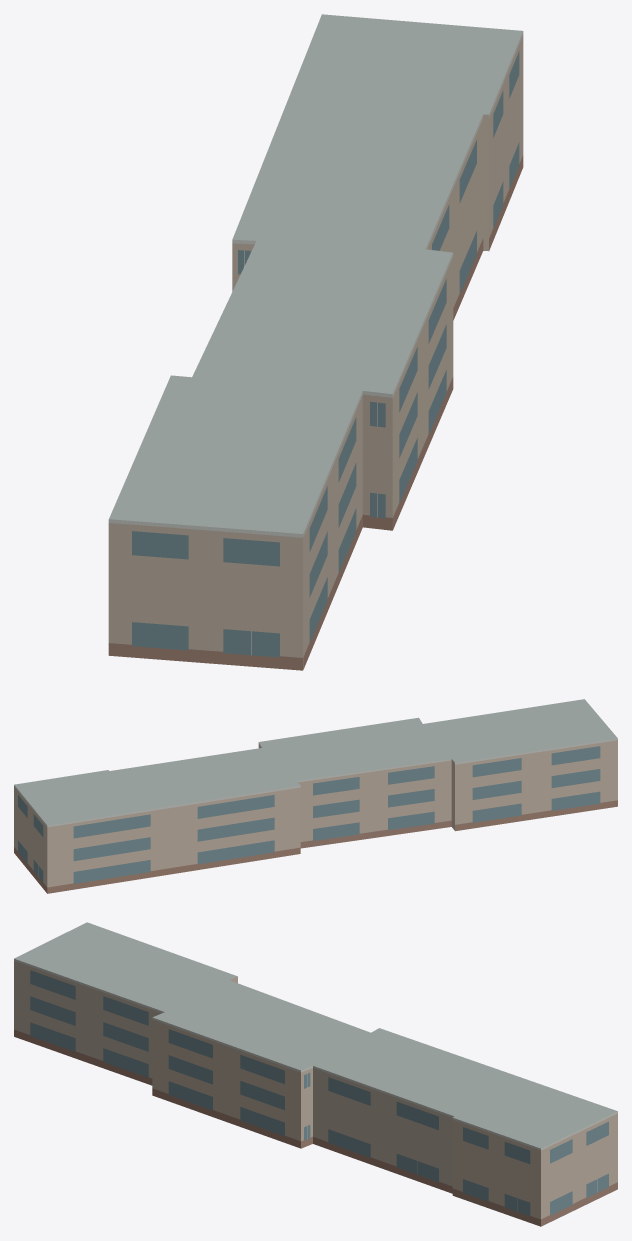
The model's file is survey-upis-32761567.glb.
3 renders of one model, top to bottom at view 1: azimuth 30°, elevation 25°; view 2: azimuth 150°, elevation 25°; view 3: azimuth 270°, elevation 25°, orthographic. The views are drawn at different scales.
Parts seen in each view (by area): view 1: survey-upis-32761567.tmp; view 2: survey-upis-32761567.tmp; view 3: survey-upis-32761567.tmp.
Part boxes in pixels (x1,y1,x2,y2): survey-upis-32761567.tmp: [108, 14, 523, 670]; survey-upis-32761567.tmp: [14, 699, 617, 893]; survey-upis-32761567.tmp: [14, 922, 617, 1226].
Size of the model in its own units: 56.89 by 9.15 by 64.13.
